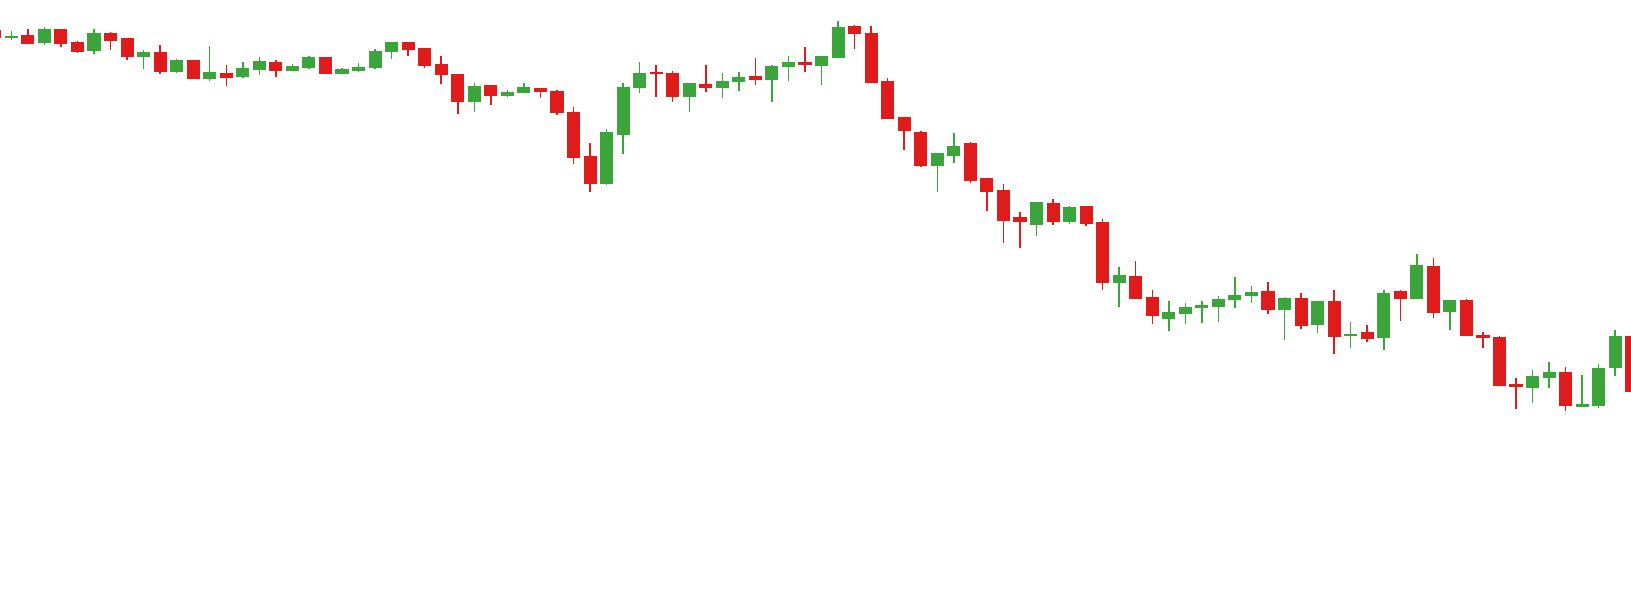sell: (1296, 255, 1442, 323)
